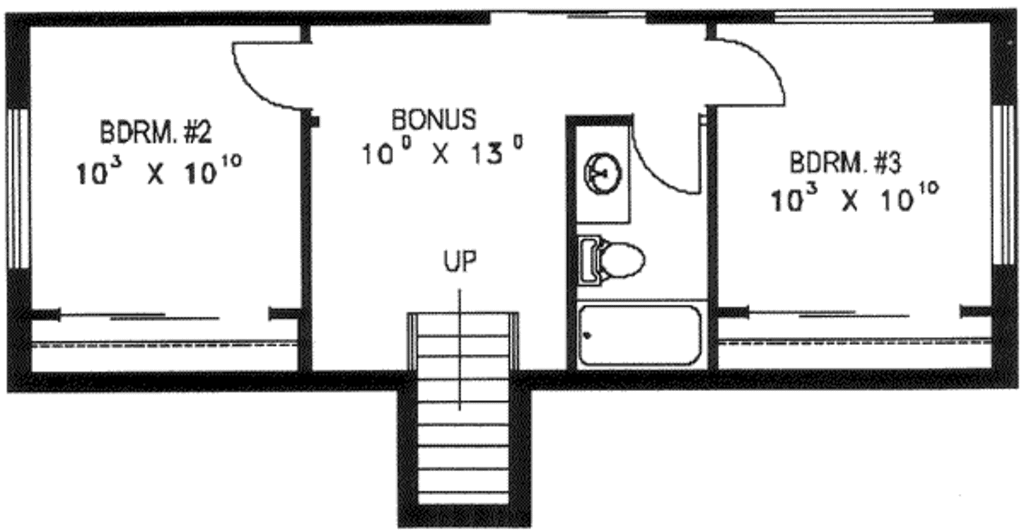door: (629, 112, 729, 207), (692, 23, 797, 111), (230, 34, 327, 115)
large_sink: (569, 226, 665, 294)
small_sink: (576, 123, 631, 221)
stairs: (386, 304, 535, 516)
tub: (568, 302, 714, 370)
window: (1, 106, 35, 276), (773, 1, 946, 32), (988, 101, 1016, 268)
